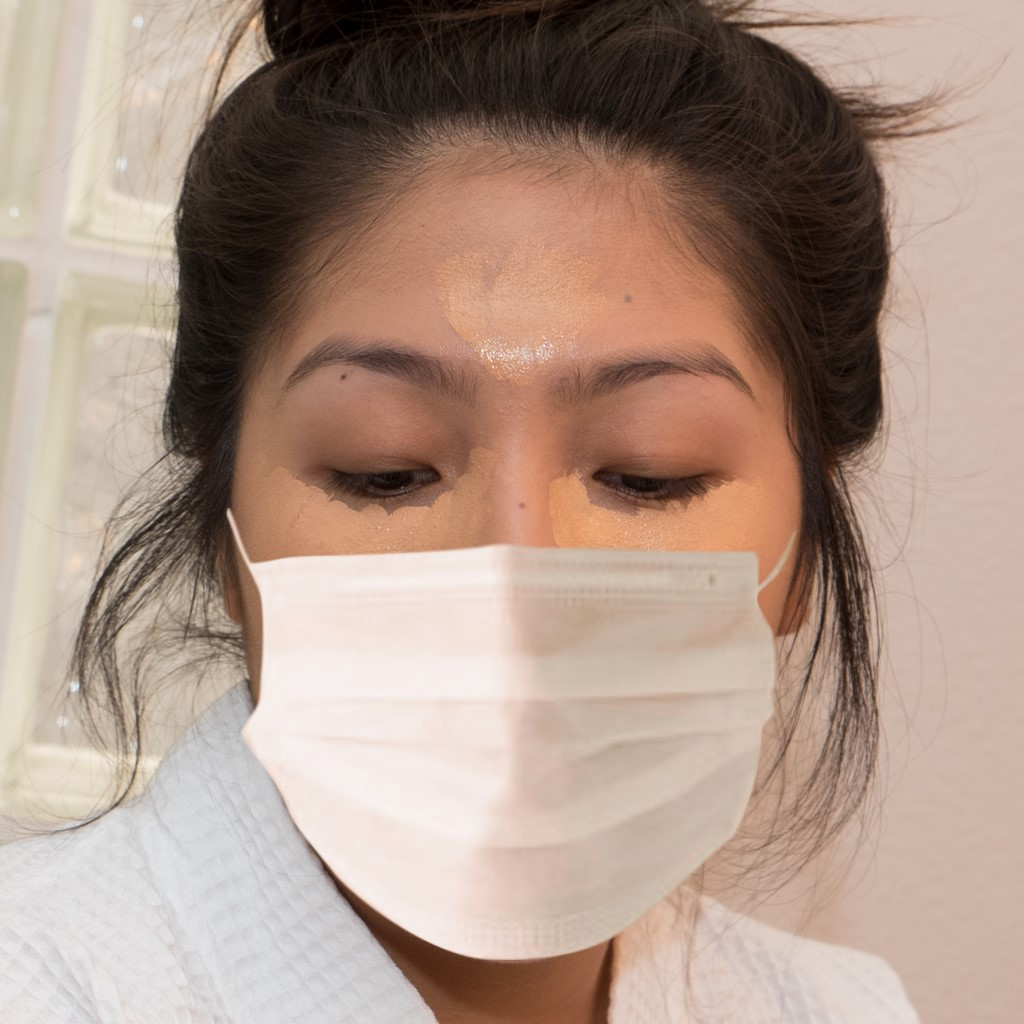con_mascara: (178, 99, 842, 956)
